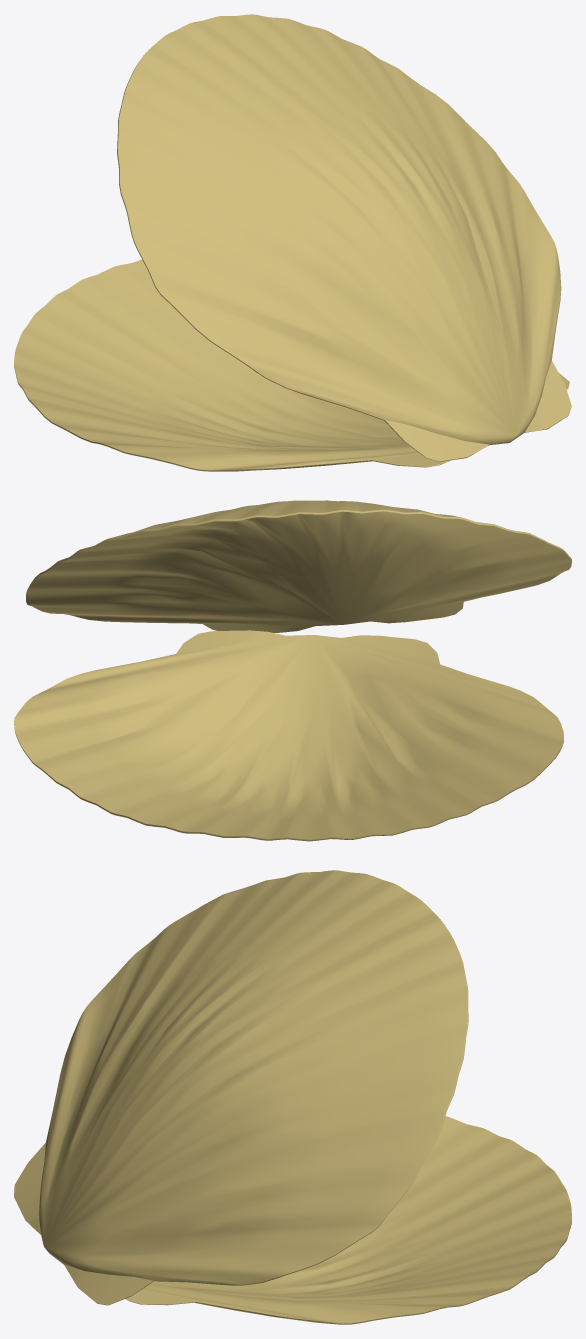
Rendered from Clam.dae.
3 renders of one model, top to bottom at view 1: azimuth 30°, elevation 25°; view 2: azimuth 150°, elevation 25°; view 3: azimuth 270°, elevation 25°, orthographic. The views are drawn at different scales.
Parts seen in each view (by area): view 1: shell_upper1, shell_upper; view 2: shell_upper, shell_upper1; view 3: shell_upper1, shell_upper.
Part boxes in pixels (left/top/right/bottom): shell_upper1: left=117, top=14, right=571, bottom=461; shell_upper: left=14, top=259, right=569, bottom=471; shell_upper: left=14, top=630, right=563, bottom=841; shell_upper1: left=26, top=500, right=571, bottom=632; shell_upper1: left=14, top=870, right=468, bottom=1305; shell_upper: left=125, top=1116, right=571, bottom=1324.
Size of the model in its own units: 18.82 by 13 by 18.95.
